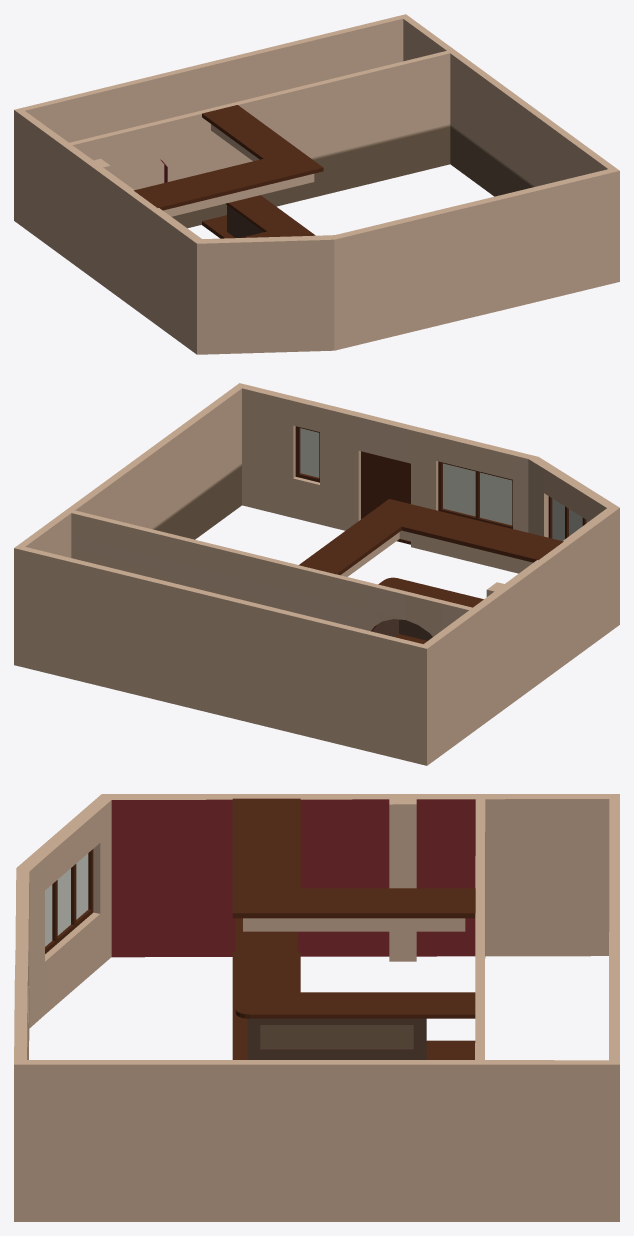
File: Interior.fbx
3 renders of one model, top to bottom at view 1: azimuth 30°, elevation 25°; view 2: azimuth 150°, elevation 25°; view 3: azimuth 270°, elevation 25°, orthographic. The views are drawn at different scales.
Visible parts, largest first — view 1: Barra.001; view 2: Barra.001; view 3: Barra.001.
Part boxes in pixels (bbox=[...]): Barra.001: bbox=[14, 14, 619, 354]; Barra.001: bbox=[14, 383, 619, 765]; Barra.001: bbox=[14, 794, 619, 1221].
Bounding box in the file's own units: 553 × 150 × 523.
